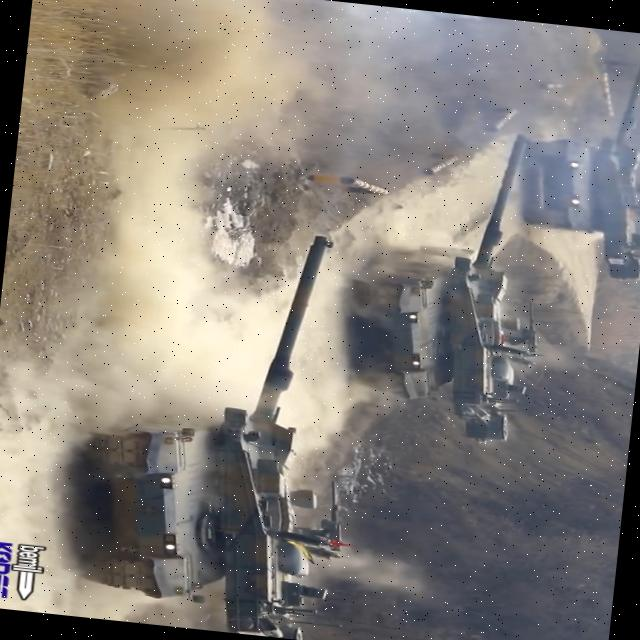korea tank: (53, 209, 376, 640)
